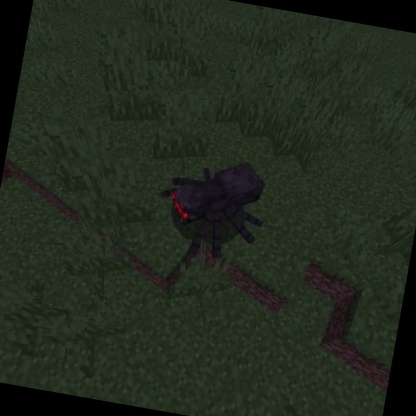spider: (146, 144, 277, 272)
